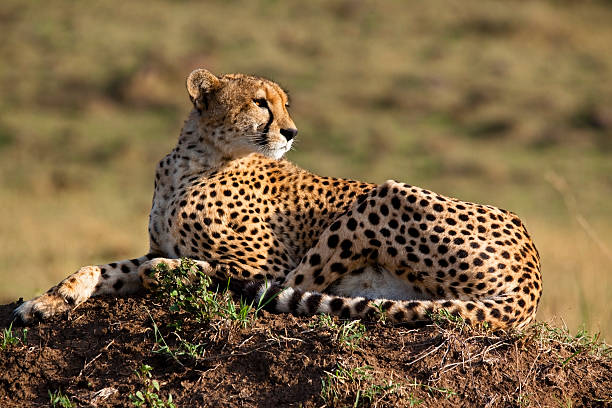cheetah: (167, 63, 301, 170)
